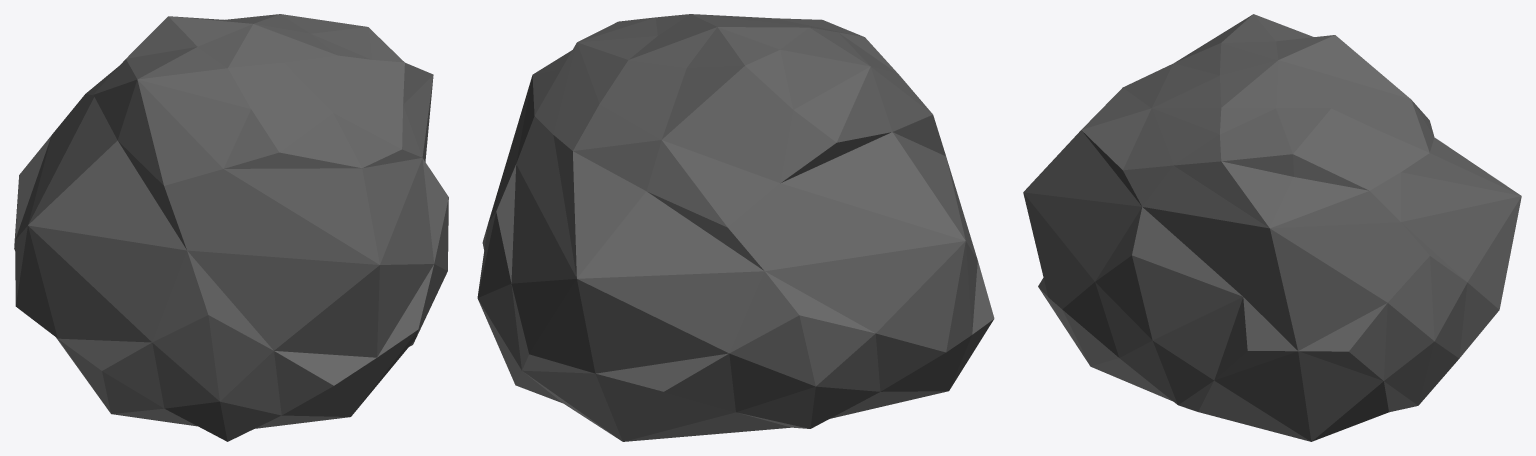
File: Rock3.fbx
3 renders of one model, left to right at view 1: azimuth 30°, elevation 25°; view 2: azimuth 150°, elevation 25°; view 3: azimuth 270°, elevation 25°, orthographic. The views are drawn at different scales.
Parts seen in each view (by area): view 1: Rock3; view 2: Rock3; view 3: Rock3.
Part boxes in pixels (left/top/right/bottom): Rock3: left=14, top=14, right=448, bottom=441; Rock3: left=477, top=14, right=994, bottom=441; Rock3: left=1023, top=14, right=1521, bottom=441.
Size of the model in its own units: 64.05 by 51.87 by 70.84.
